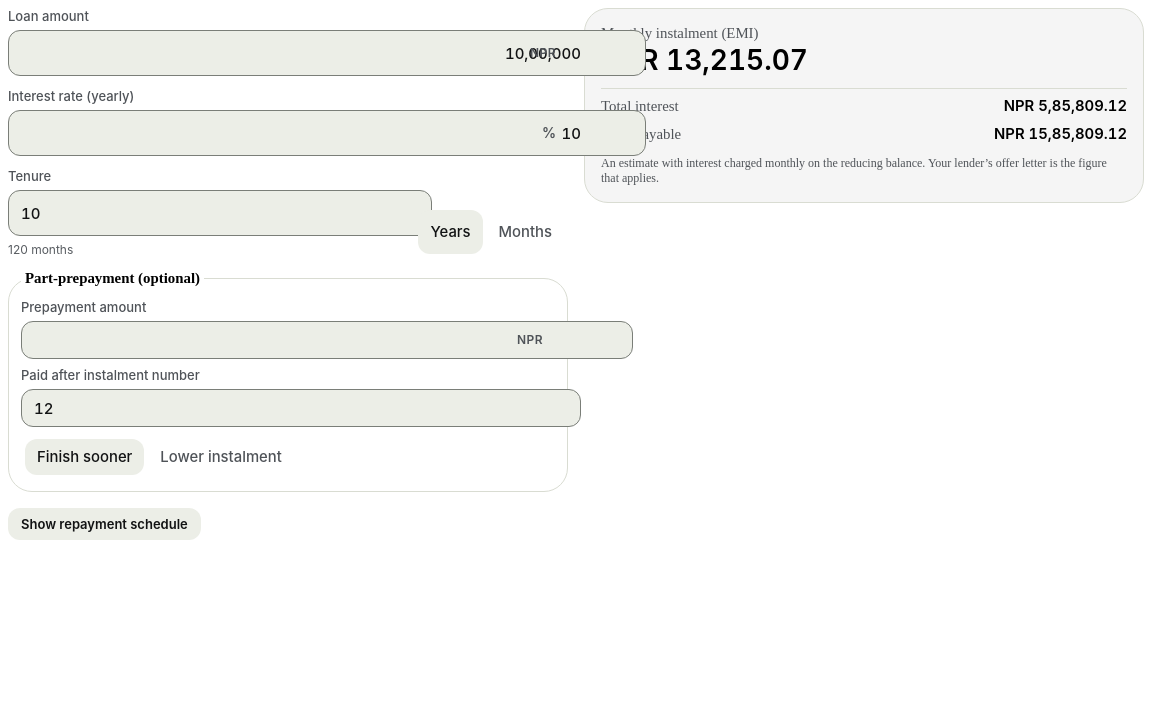
Test: LoanCalculator › switches the tenure unit without changing the loan
The width and height of the screenshot is (1152, 720).
Click the radio button labelled "Months" at (525, 232), box top-left (499, 223), bottom-right (552, 241)
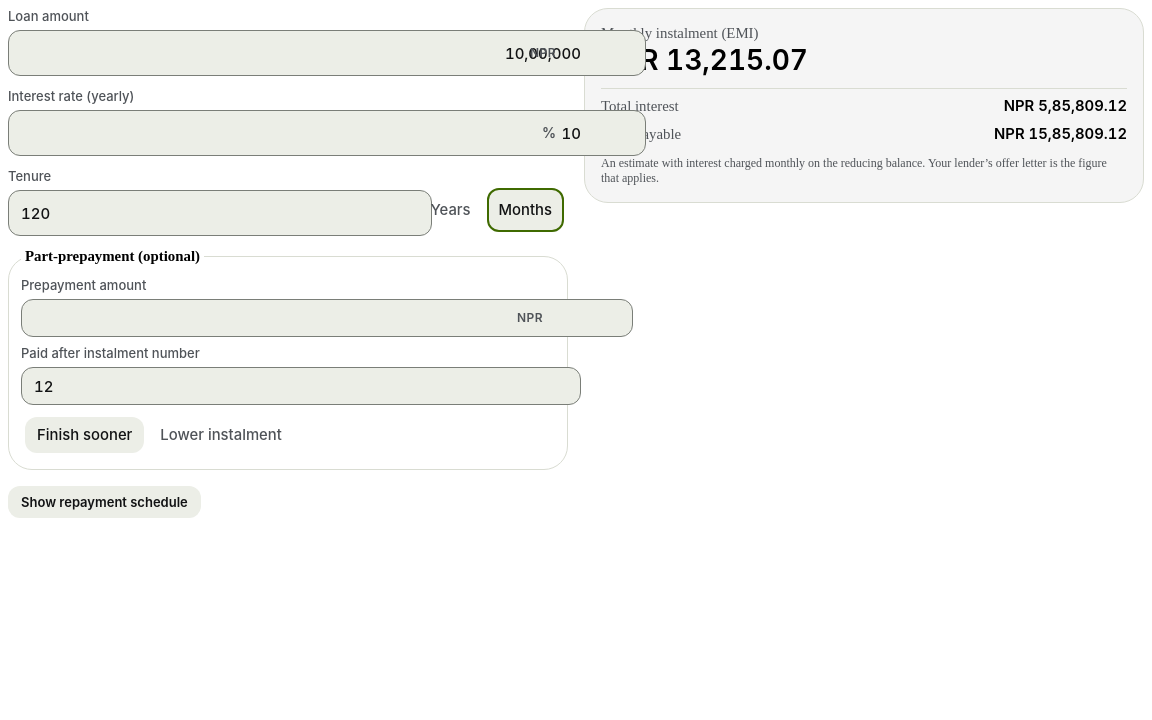
Expected: the field with test id "lc-tenure" holds "120", top-left (8, 190), bottom-right (432, 236)
